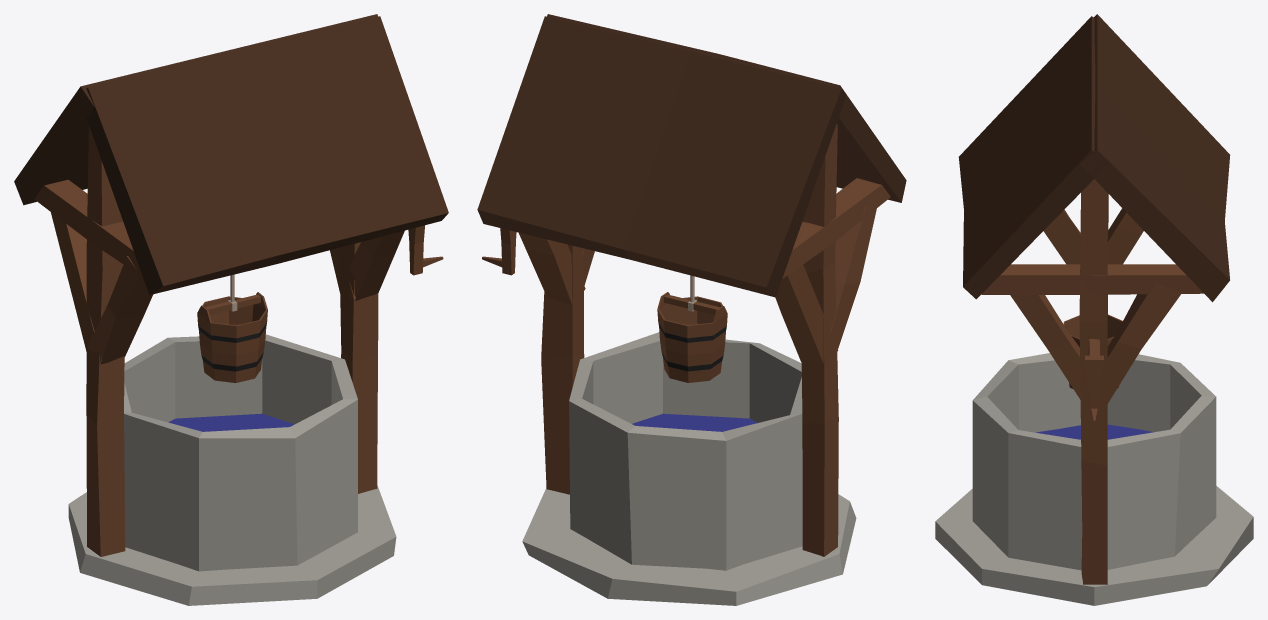
File: well.glb
3 renders of one model, left to right at view 1: azimuth 30°, elevation 25°; view 2: azimuth 150°, elevation 25°; view 3: azimuth 270°, elevation 25°, orthographic. The views are drawn at different scales.
Visible parts, largest first — view 1: Mesh; view 2: Mesh; view 3: Mesh.
Boxes of the visible parts, x1=… form: Mesh: x1=14, y1=14, x2=448, y2=605; Mesh: x1=477, y1=14, x2=906, y2=605; Mesh: x1=935, y1=14, x2=1253, y2=605.
Bounding box in the file's own units: 2.17 × 2.79 × 1.76.
